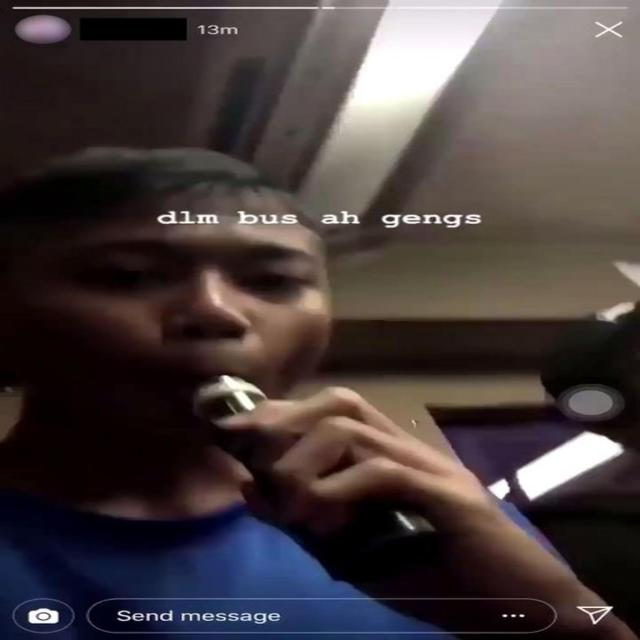smoking: (3, 152, 491, 572)
